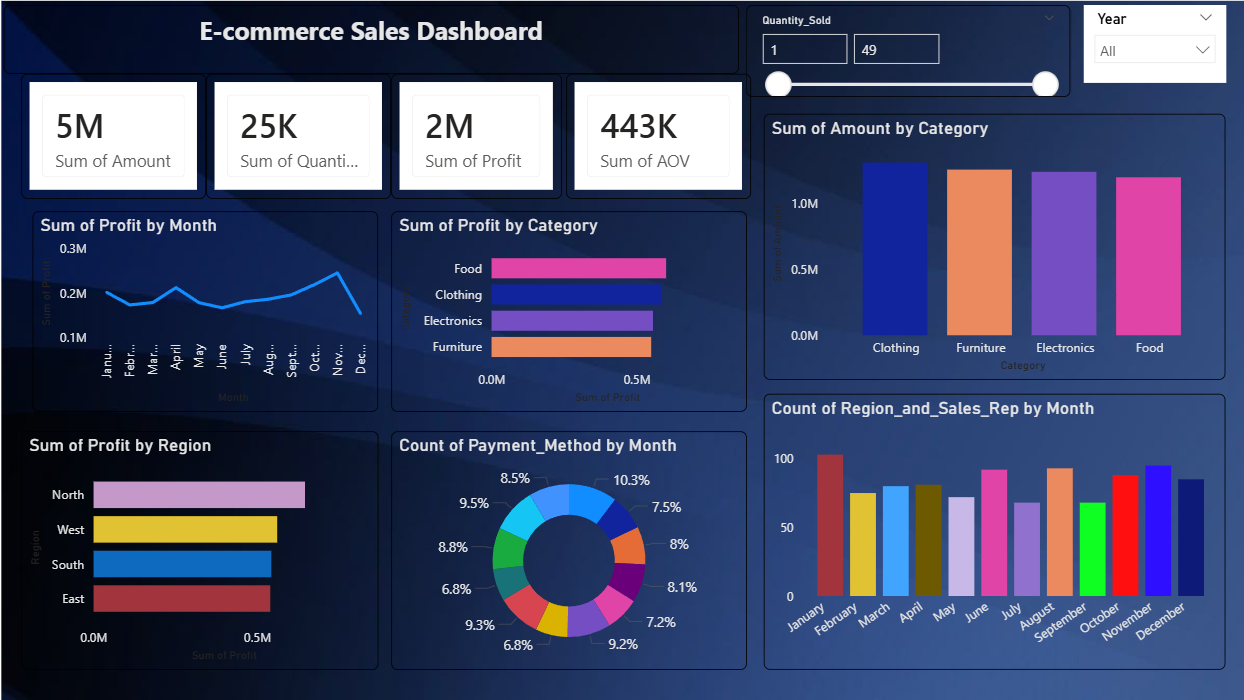

The dashboard page shown, as its layout file describes it:
{"tool":"powerbi","page":{"name":"Page 1","canvas":[1280,720],"ordinal":0},"visuals":[{"type":"columnChart","title":"Sum of Amount by Category","fields":{"Category":["sales_data.Product_Category"],"Y":["Sum(sales_data.Sales_Amount)"]},"box":[775.3,129,446,256.6],"z":0},{"type":"textbox","box":[42.2,24.1,709.4,66.3],"z":2},{"type":"cardVisual","fields":{"Data":["Sum(sales_data.Sales_Amount)"]},"box":[59,90.6,178.4,120.8],"z":3},{"type":"cardVisual","fields":{"Data":["Sum(sales_data.Profit)"]},"box":[415.8,90.6,164.7,120.8],"z":4},{"type":"cardVisual","fields":{"Data":["Sum(sales_data.Quantity_Sold)"]},"box":[237.4,90.6,178.4,120.8],"z":5},{"type":"cardVisual","fields":{"Data":["Sum(sales_data.AOV)"]},"box":[584.6,90.6,178.4,120.8],"z":6},{"type":"lineChart","fields":{"Category":["sales_data.Sale_Date.Variation.Date Hierarchy.Month"],"Y":["Sum(sales_data.Profit)"]},"box":[70,223.7,333.4,193.5],"z":7},{"type":"barChart","fields":{"Category":["sales_data.Product_Category"],"Y":["Sum(sales_data.Profit)"]},"box":[415.8,223.7,343.1,193.5],"z":8},{"type":"clusteredBarChart","fields":{"Category":["sales_data.Region"],"Y":["Sum(sales_data.Profit)"]},"box":[59,435,344.4,230.5],"z":9},{"type":"donutChart","fields":{"Y":["CountNonNull(sales_data.Payment_Method)"],"Series":["sales_data.Sale_Date.Variation.Date Hierarchy.Month"]},"box":[415.8,435,343.1,230.5],"z":10},{"type":"columnChart","fields":{"Y":["CountNonNull(sales_data.Region_and_Sales_Rep)"],"Category":["sales_data.Sale_Date.Variation.Date Hierarchy.Month"]},"box":[775.3,399.3,446,266.2],"z":11},{"type":"slicer","fields":{"Values":["sales_data.Sale_Date.Variation.Date Hierarchy.Year"]},"box":[1084,24.7,137.2,75.5],"z":12},{"type":"slicer","fields":{"Values":["sales_data.Quantity_Sold"]},"box":[758.8,24.7,312.9,89.2],"z":13}]}

Visuals, with their boxes in screenshot pixels (x1, y1, x2, y2), scaled from the page's 1280x720 canvas onto the 1244x700 screenshot:
"Sum of Amount by Category" columnChart: Rect(753, 125, 1187, 375)
textbox: Rect(41, 23, 730, 88)
cardVisual - Sum(sales_data.Sales_Amount): Rect(57, 88, 231, 206)
cardVisual - Sum(sales_data.Profit): Rect(404, 88, 564, 206)
cardVisual - Sum(sales_data.Quantity_Sold): Rect(231, 88, 404, 206)
cardVisual - Sum(sales_data.AOV): Rect(568, 88, 742, 206)
lineChart - sales_data.Sale_Date.Variation.Date Hierarchy.Month x Sum(sales_data.Profit): Rect(68, 217, 392, 406)
barChart - sales_data.Product_Category x Sum(sales_data.Profit): Rect(404, 217, 738, 406)
clusteredBarChart - sales_data.Region x Sum(sales_data.Profit): Rect(57, 423, 392, 647)
donutChart - CountNonNull(sales_data.Payment_Method) x sales_data.Sale_Date.Variation.Date Hierarchy.Month: Rect(404, 423, 738, 647)
columnChart - CountNonNull(sales_data.Region_and_Sales_Rep) x sales_data.Sale_Date.Variation.Date Hierarchy.Month: Rect(753, 388, 1187, 647)
slicer - sales_data.Sale_Date.Variation.Date Hierarchy.Year: Rect(1054, 24, 1187, 97)
slicer - sales_data.Quantity_Sold: Rect(737, 24, 1042, 111)
